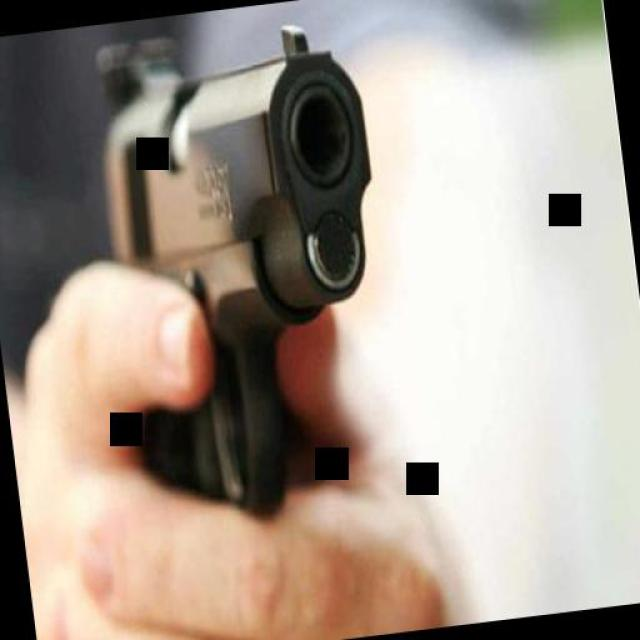gun: (81, 8, 420, 546)
